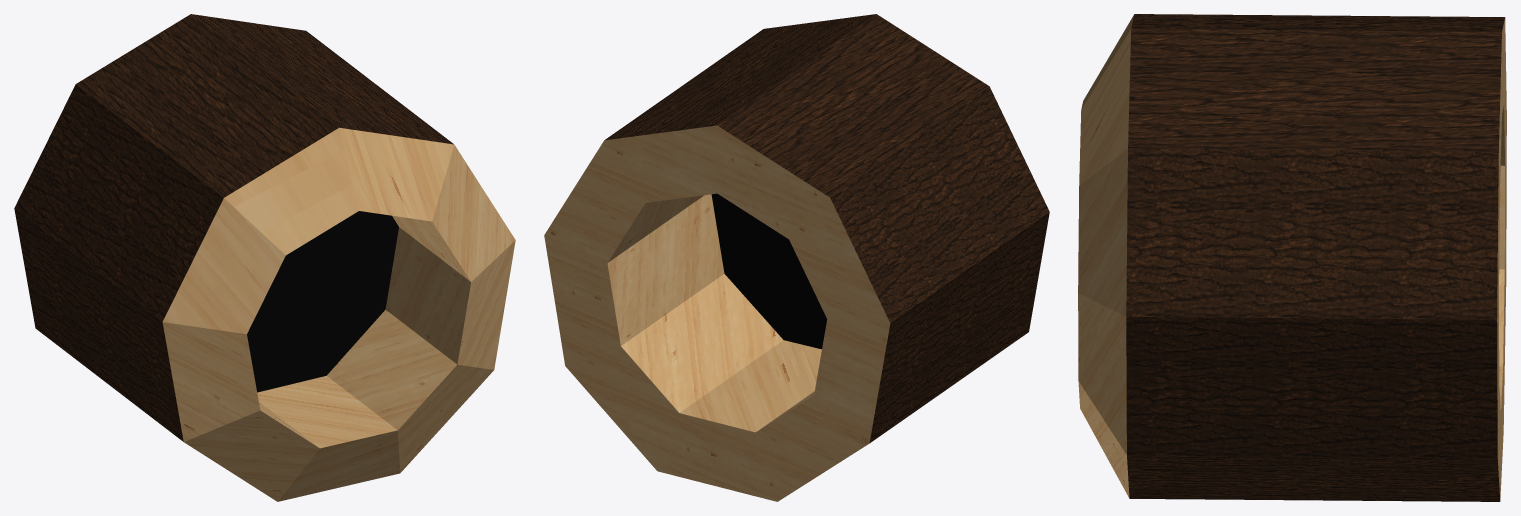
Rendered from logcave1.obj.
3 views of the same model, side by side, from view 1: azimuth 30°, elevation 25°; view 2: azimuth 150°, elevation 25°; view 3: azimuth 270°, elevation 25° (orthographic). The views are drawn at different scales.
Visible parts, largest first — view 1: Object.1, Object.2; view 2: Object.1, Object.2; view 3: Object.1.
Part boxes in pixels (<box>): Object.1: <box>14,14,515,501</box>; Object.2: <box>247,211,398,392</box>; Object.1: <box>544,14,1049,501</box>; Object.2: <box>711,193,827,349</box>; Object.1: <box>1078,14,1506,501</box>.
Bounding box in the file's own units: 1 × 0.9704 × 0.8679.
